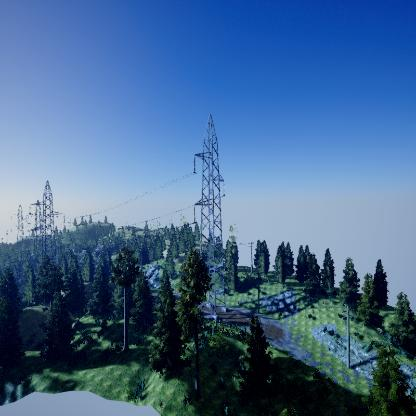tower: (191, 109, 229, 313), (33, 179, 66, 273)
